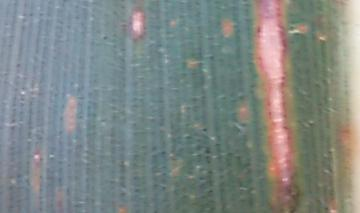tarspot: (201, 125, 209, 134)
